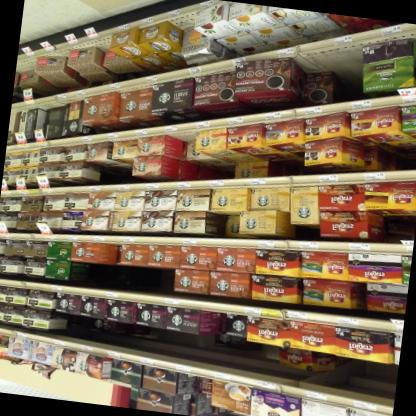empty_space: (301, 39, 359, 92)
